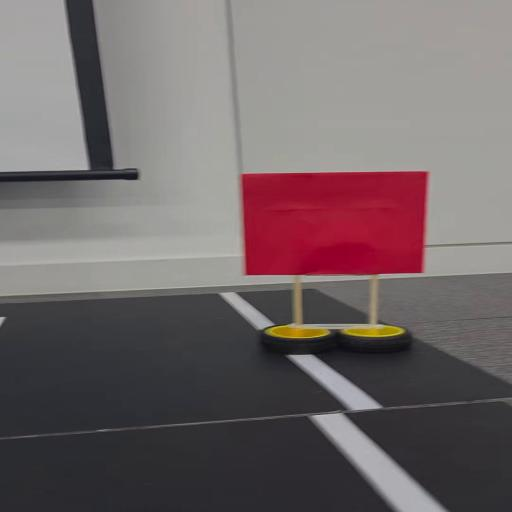Sign_A: (229, 169, 446, 361)
